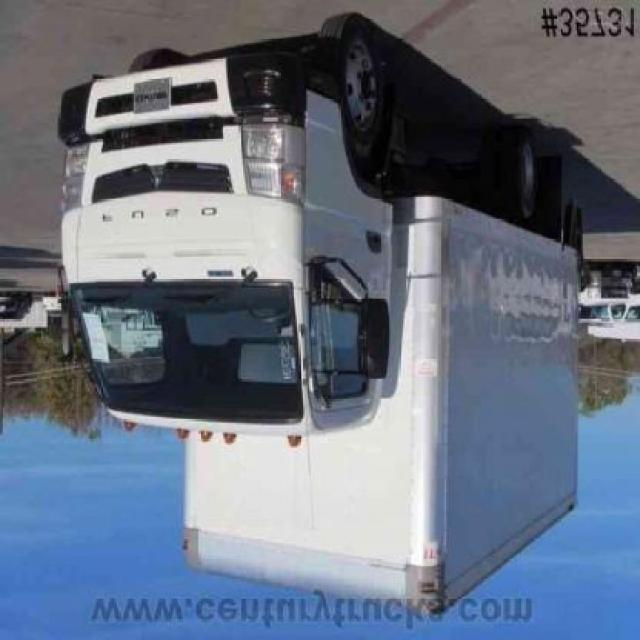truck: (48, 17, 579, 626)
